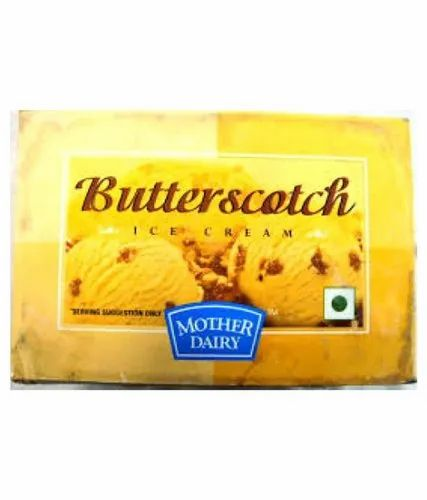Mother_Dairy: (161, 297, 269, 368)
